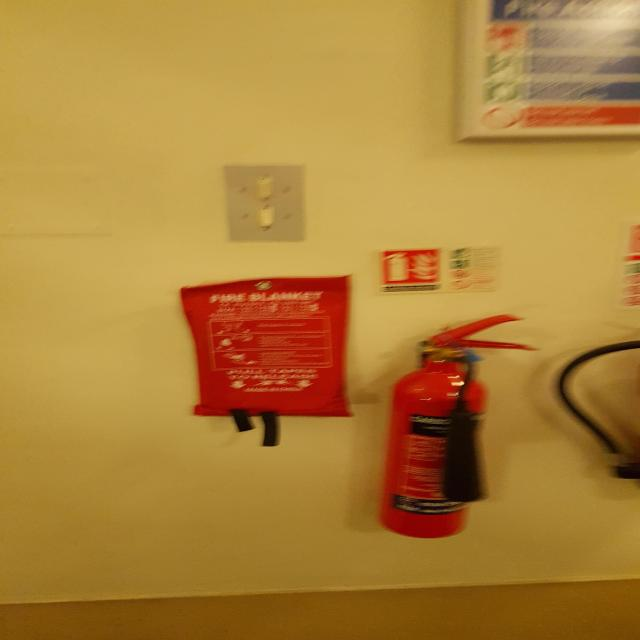fire_extinguisher: (374, 313, 542, 540)
